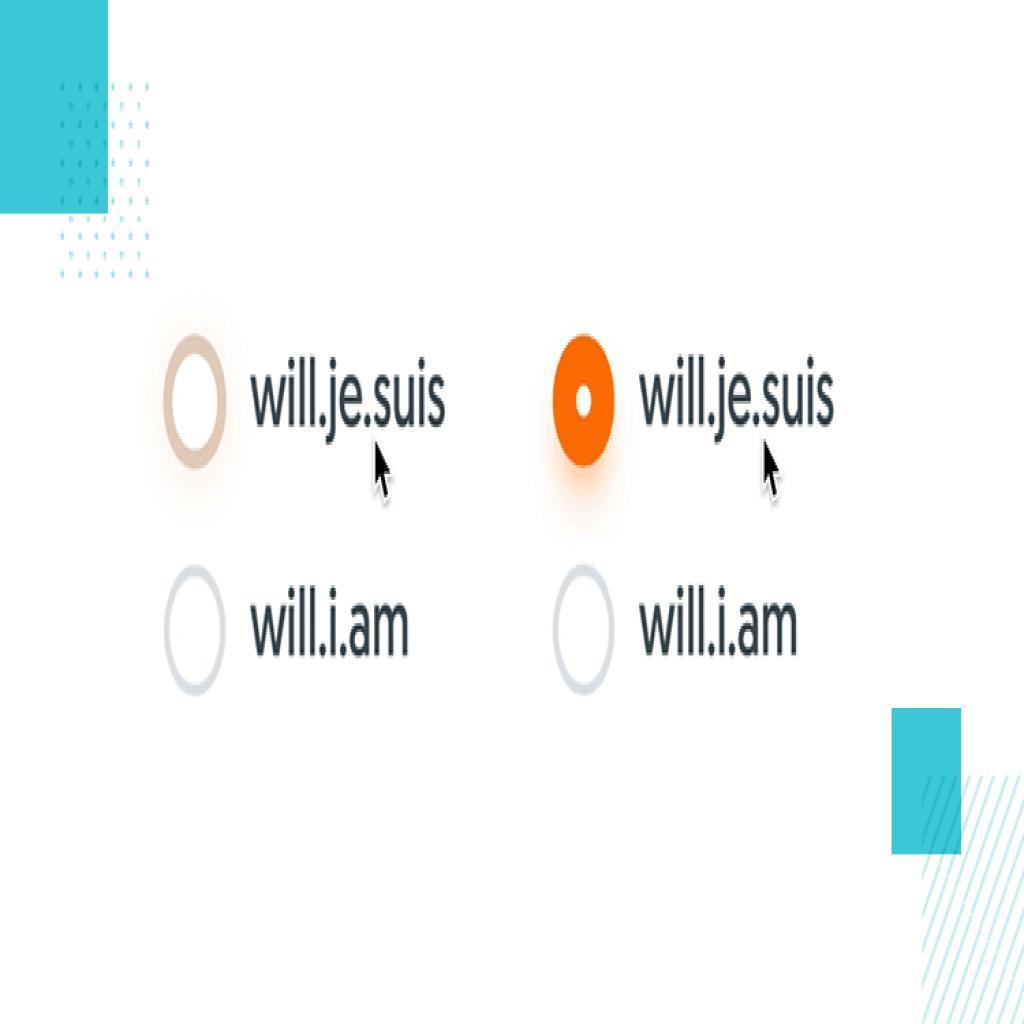label: (244, 345, 453, 443), (631, 351, 840, 446), (244, 581, 416, 666), (638, 582, 810, 665)
radio: (550, 335, 621, 477), (161, 335, 229, 477), (159, 564, 229, 699), (552, 562, 615, 697)
